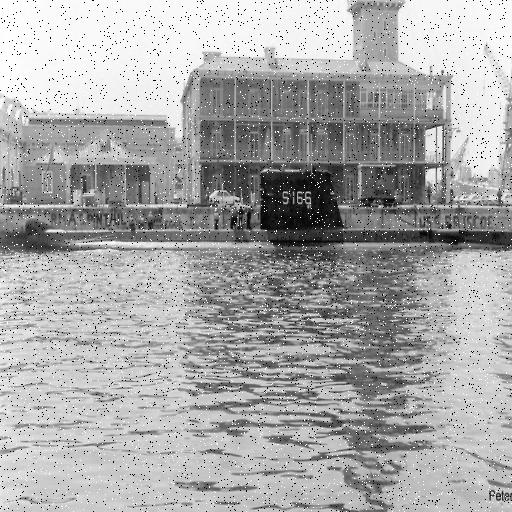submarine: (25, 152, 512, 250)
